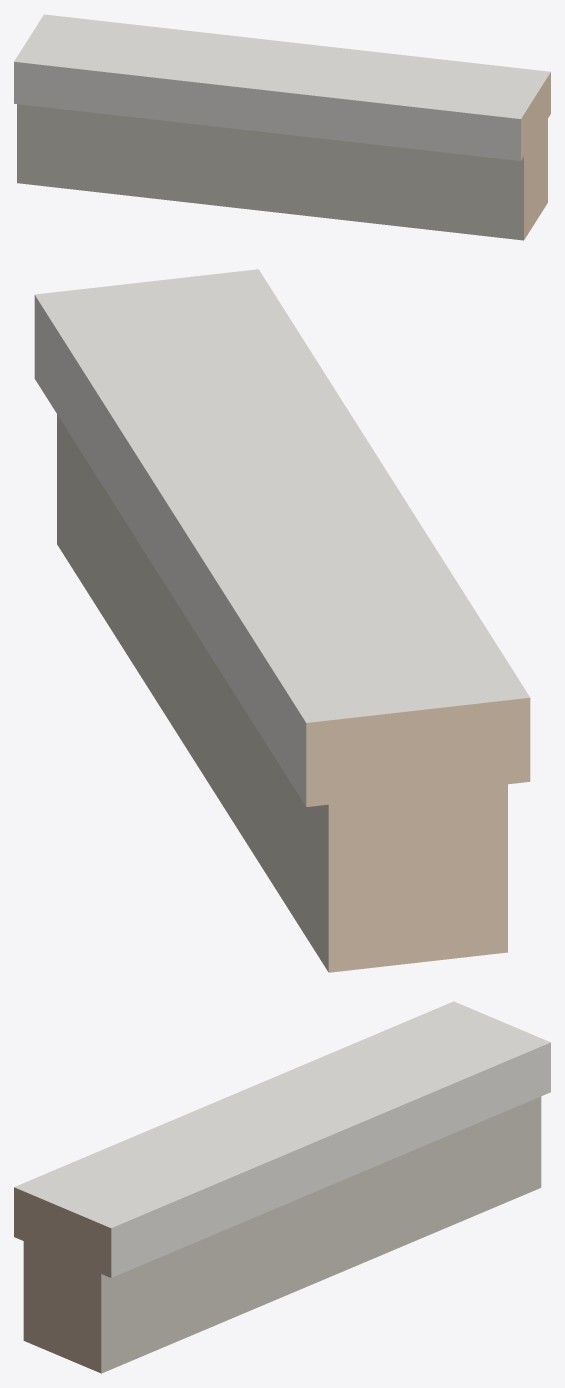
Rendered from Tiered_Retaining_Wall_45_Degrees_Straight_2x2_Top.glb.
3 renders of one model, top to bottom at view 1: azimuth 30°, elevation 25°; view 2: azimuth 150°, elevation 25°; view 3: azimuth 270°, elevation 25°, orthographic. The views are drawn at different scales.
Visible parts, largest first — view 1: Tiered_Retaining_Wall_45_Degrees_Straight_2x2_Top; view 2: Tiered_Retaining_Wall_45_Degrees_Straight_2x2_Top; view 3: Tiered_Retaining_Wall_45_Degrees_Straight_2x2_Top.
Part boxes in pixels (bbox=[...]): Tiered_Retaining_Wall_45_Degrees_Straight_2x2_Top: bbox=[14, 14, 550, 240]; Tiered_Retaining_Wall_45_Degrees_Straight_2x2_Top: bbox=[34, 269, 530, 972]; Tiered_Retaining_Wall_45_Degrees_Straight_2x2_Top: bbox=[14, 1001, 550, 1373].
Size of the model in its own units: 122 by 37.5 by 122.
